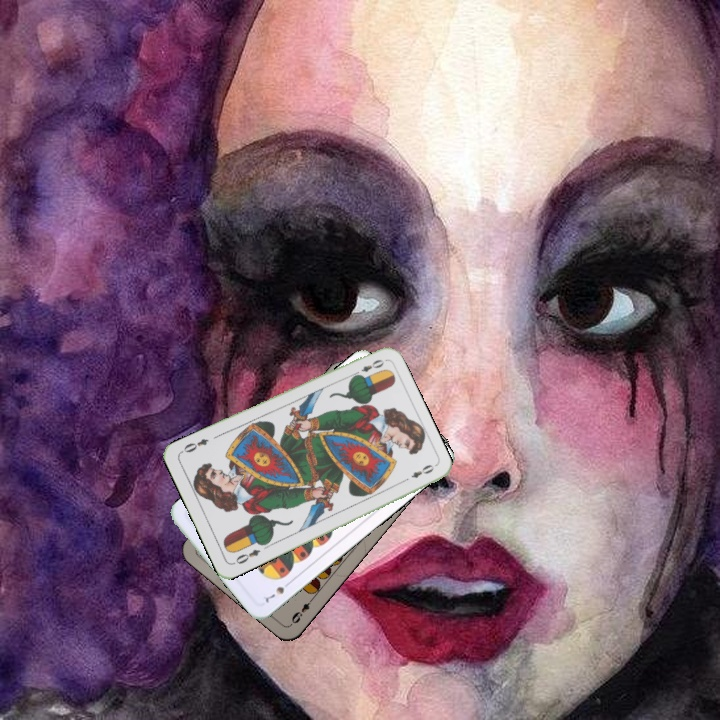E9: (287, 593, 317, 627)
EO: (349, 355, 387, 379), (229, 545, 263, 567)
S7: (261, 577, 294, 606)
